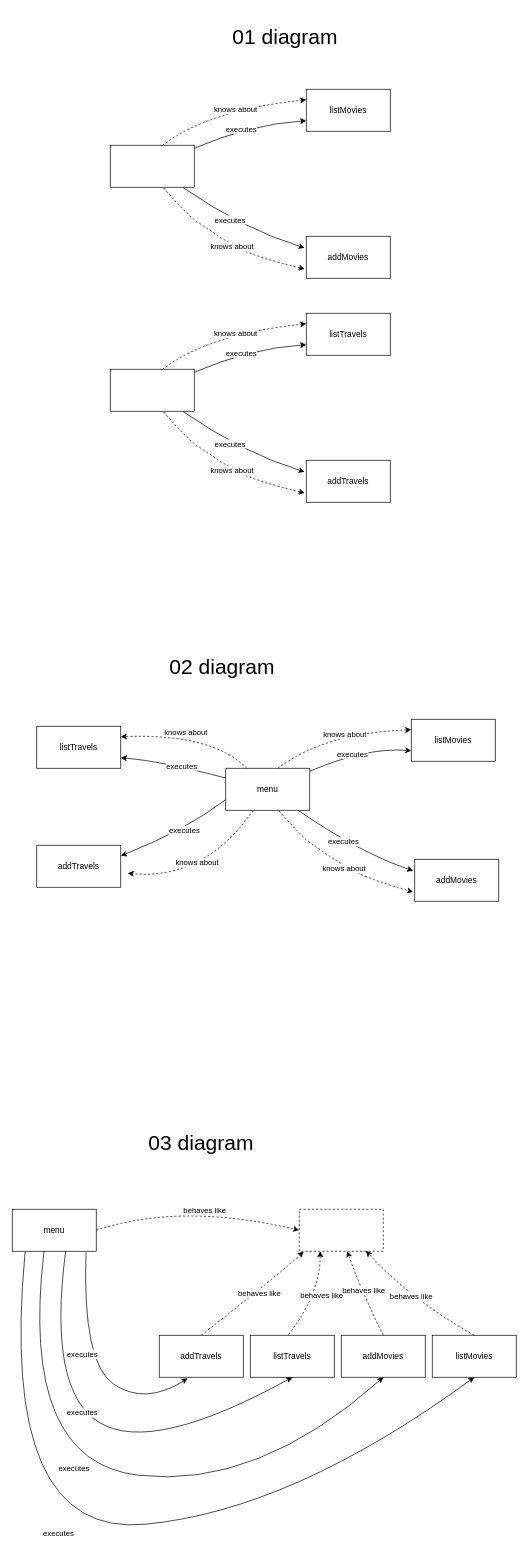
The diagram is 529 pixels wide and 1550 high, and some of its shapes have lost their labels. Here are the shapes that lost their labels. From the top down, the centre of each, then its label:
At point (152, 166): "menuMovies".
At point (152, 390): "menuTravels".
At point (341, 1230): "function (idea/abstract)".
